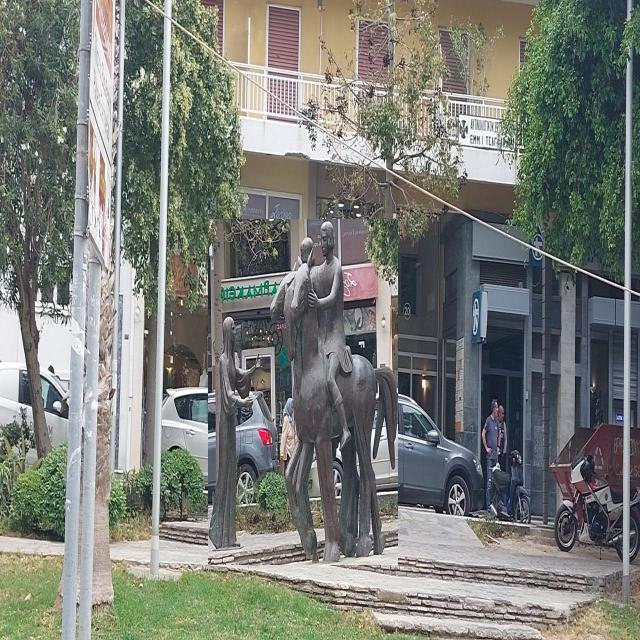Aretousa: (210, 220, 400, 566)
